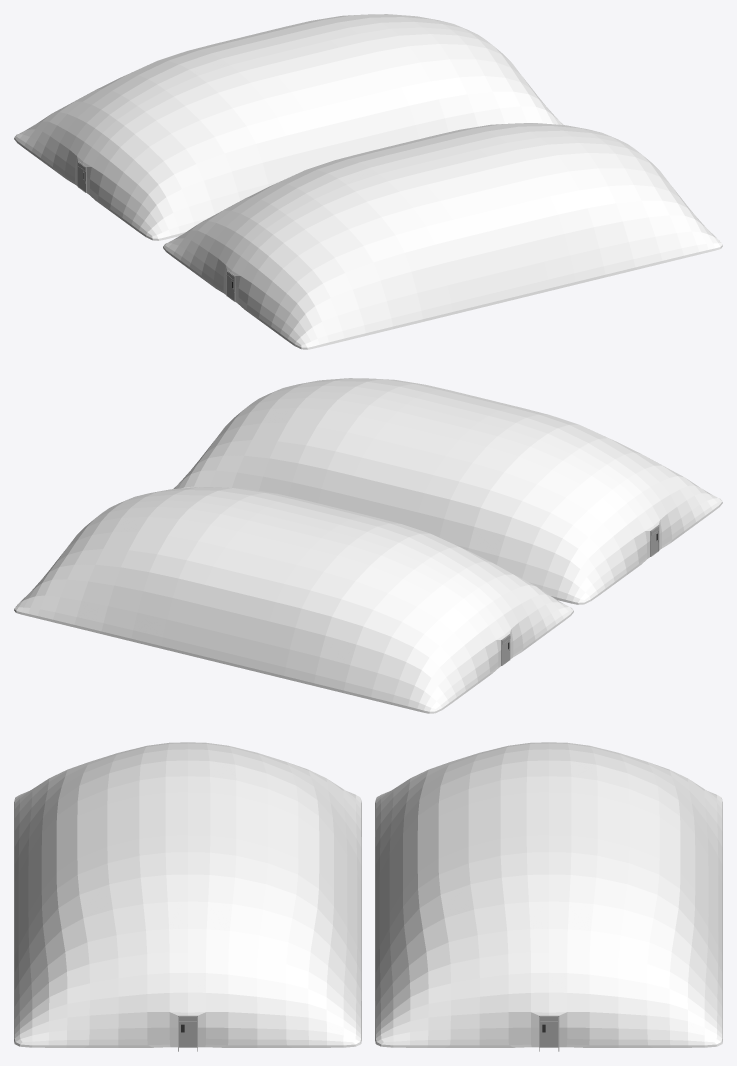
Rendered from tennis_bubble.glb.
3 renders of one model, top to bottom at view 1: azimuth 30°, elevation 25°; view 2: azimuth 150°, elevation 25°; view 3: azimuth 270°, elevation 25°, orthographic. The views are drawn at different scales.
Visible parts, largest first — view 1: Dome.001, Dome; view 2: Dome, Dome.001; view 3: Dome, Dome.001.
Boxes of the visible parts, box(x1,y1,x2,y2) form: Dome.001: box(163, 123, 722, 349); Dome: box(14, 14, 563, 240); Dome: box(14, 487, 573, 713); Dome.001: box(173, 378, 722, 604); Dome: box(375, 742, 722, 1047); Dome.001: box(14, 742, 361, 1047).
Size of the model in its own units: 60.91 by 12 by 71.34.
Materials: 1 (1 with a texture image).
